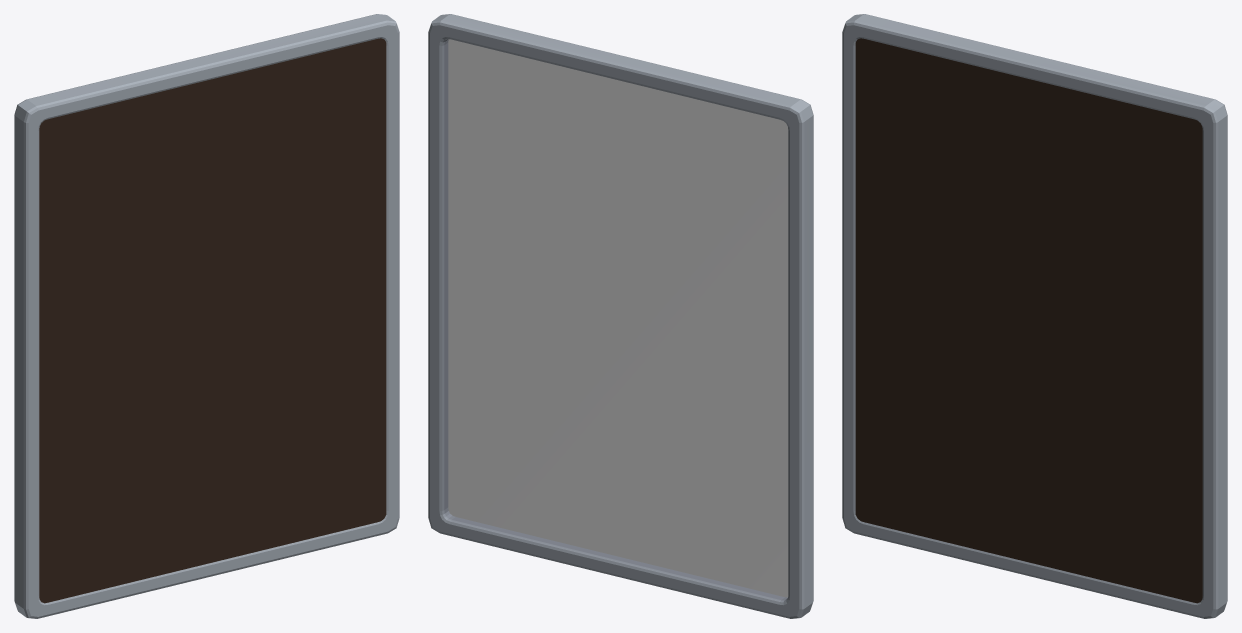
File: frame_picture__032.glb
3 renders of one model, left to right at view 1: azimuth 30°, elevation 25°; view 2: azimuth 150°, elevation 25°; view 3: azimuth 330°, elevation 25°, orthographic.
Visible parts, largest first — view 1: prop_frame_picture; view 2: prop_frame_picture; view 3: prop_frame_picture.
Boxes of the visible parts, x1=… form: prop_frame_picture: x1=14, y1=14, x2=399, y2=618; prop_frame_picture: x1=428, y1=14, x2=813, y2=618; prop_frame_picture: x1=842, y1=14, x2=1227, y2=618.
Bounding box in the file's own units: 0.605 × 0.79 × 0.035.
